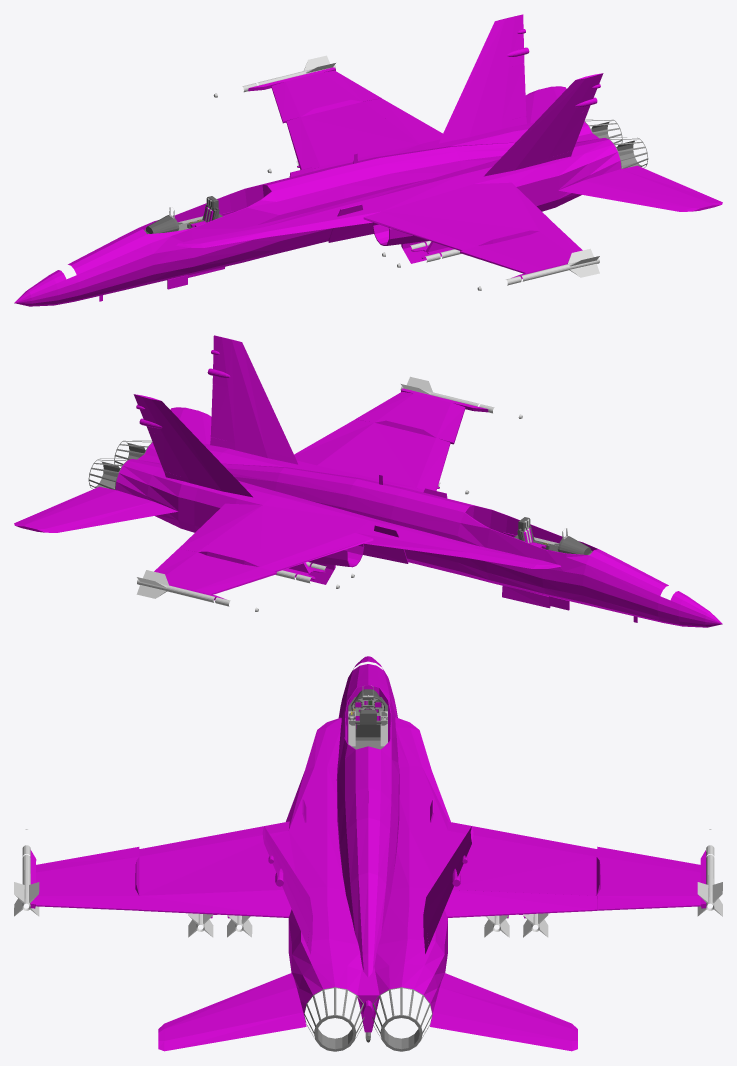
Rendered from f18.body.glb.
3 renders of one model, top to bottom at view 1: azimuth 30°, elevation 25°; view 2: azimuth 150°, elevation 25°; view 3: azimuth 270°, elevation 25°, orthographic. The views are drawn at different scales.
Parts seen in each view (by area): view 1: body; view 2: body; view 3: body.
Boxes of the visible parts, x1,y1,x2,y2 form: body: (14,14,722,306); body: (14,335,722,627); body: (14,656,722,1051).
Bounding box in the file's own units: 15.39 × 3.94 × 11.57.
